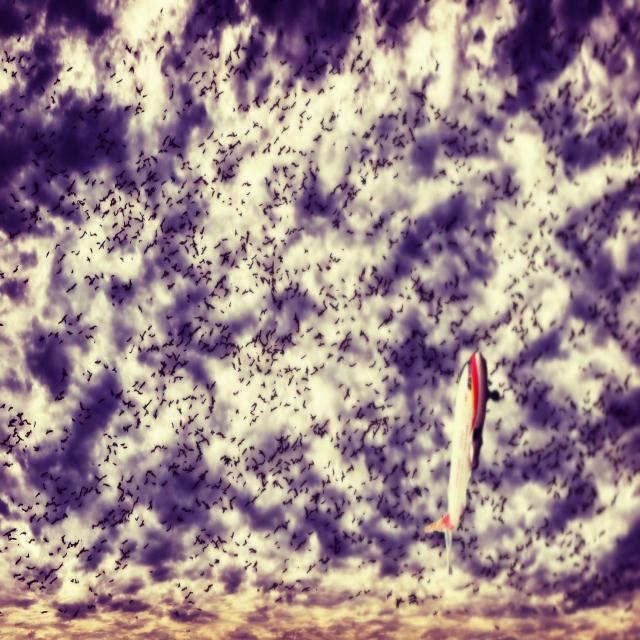airplane: (423, 349, 488, 575)
